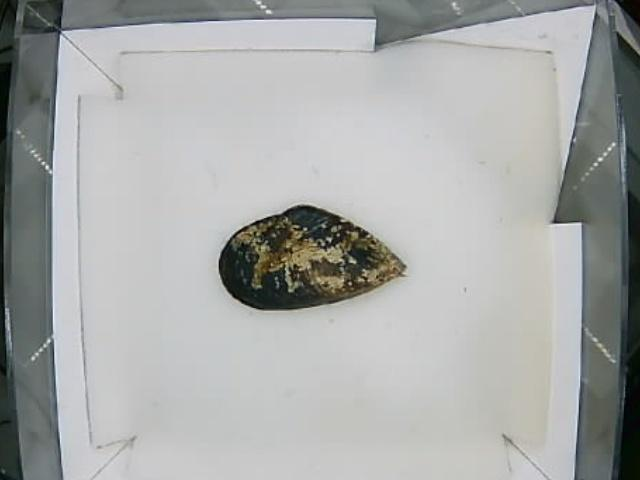Shell: (217, 203, 408, 311)
